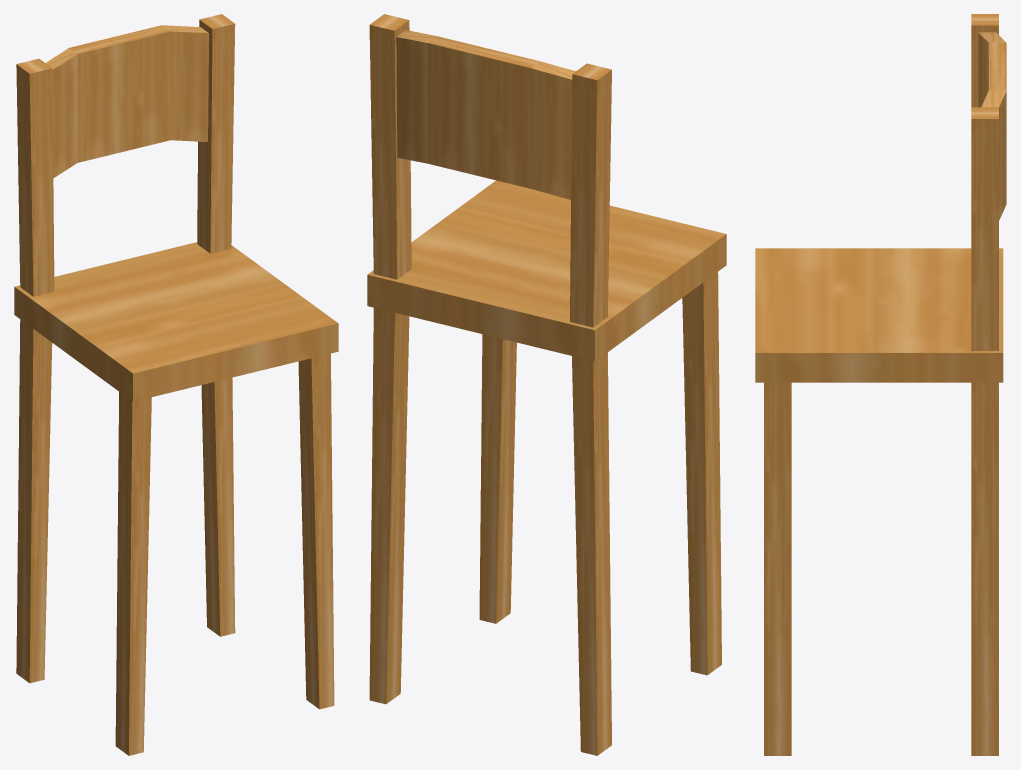
The model's file is TallChair.fbx.
3 views of the same model, side by side, from view 1: azimuth 30°, elevation 25°; view 2: azimuth 150°, elevation 25°; view 3: azimuth 270°, elevation 25° (orthographic). The views are drawn at different scales.
Parts seen in each view (by area): view 1: Maya_File_Assets:TexturedAssetsCurrent:Hanifen_Quinton_Week7; view 2: Maya_File_Assets:TexturedAssetsCurrent:Hanifen_Quinton_Week7; view 3: Maya_File_Assets:TexturedAssetsCurrent:Hanifen_Quinton_Week7.
Part boxes in pixels (bbox=[...]): Maya_File_Assets:TexturedAssetsCurrent:Hanifen_Quinton_Week7: bbox=[14, 14, 338, 755]; Maya_File_Assets:TexturedAssetsCurrent:Hanifen_Quinton_Week7: bbox=[367, 14, 726, 755]; Maya_File_Assets:TexturedAssetsCurrent:Hanifen_Quinton_Week7: bbox=[755, 14, 1006, 755].
Size of the model in its own units: 0.4885 by 1.38 by 0.4951.
